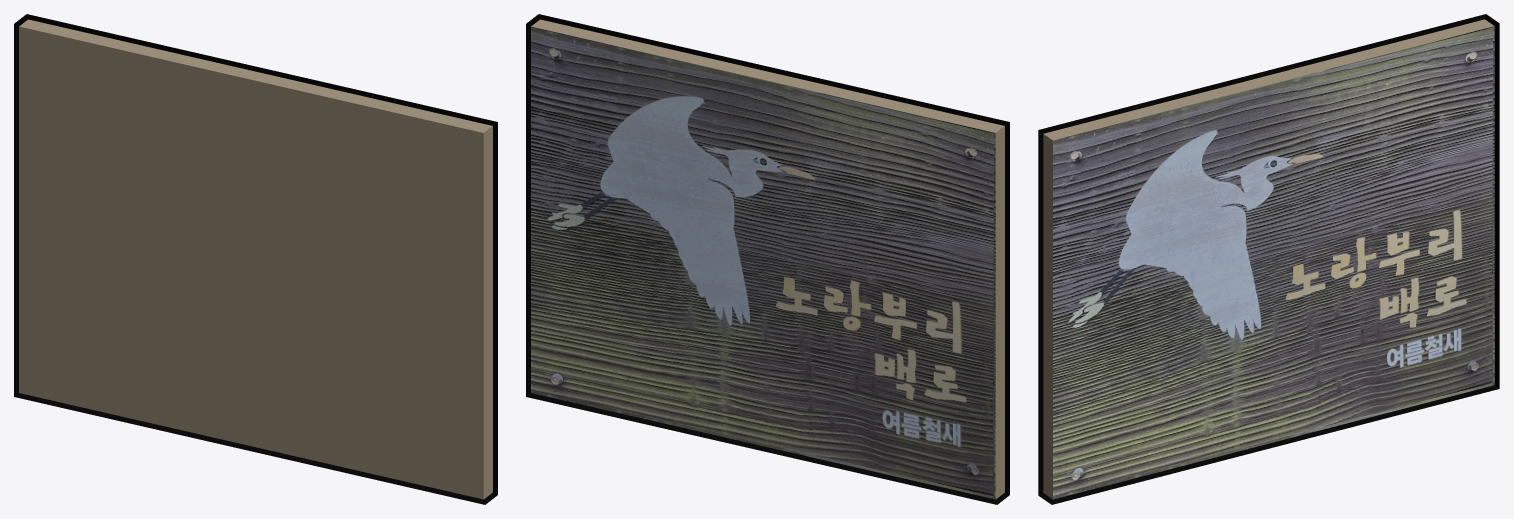
File: backro.glb
3 views of the same model, side by side, from view 1: azimuth 30°, elevation 25°; view 2: azimuth 210°, elevation 25°; view 3: azimuth 270°, elevation 25° (orthographic). The views are drawn at different scales.
Visible parts, largest first — view 1: Cube.013; view 2: Cube.013; view 3: Cube.013.
Boxes of the visible parts, x1,y1,x2,y2 form: Cube.013: (14, 14, 497, 504); Cube.013: (526, 14, 1009, 504); Cube.013: (1038, 14, 1499, 504).
Size of the model in its own units: 0.485 by 0.6596 by 0.7542.
Materials: 3 (1 with a texture image).
